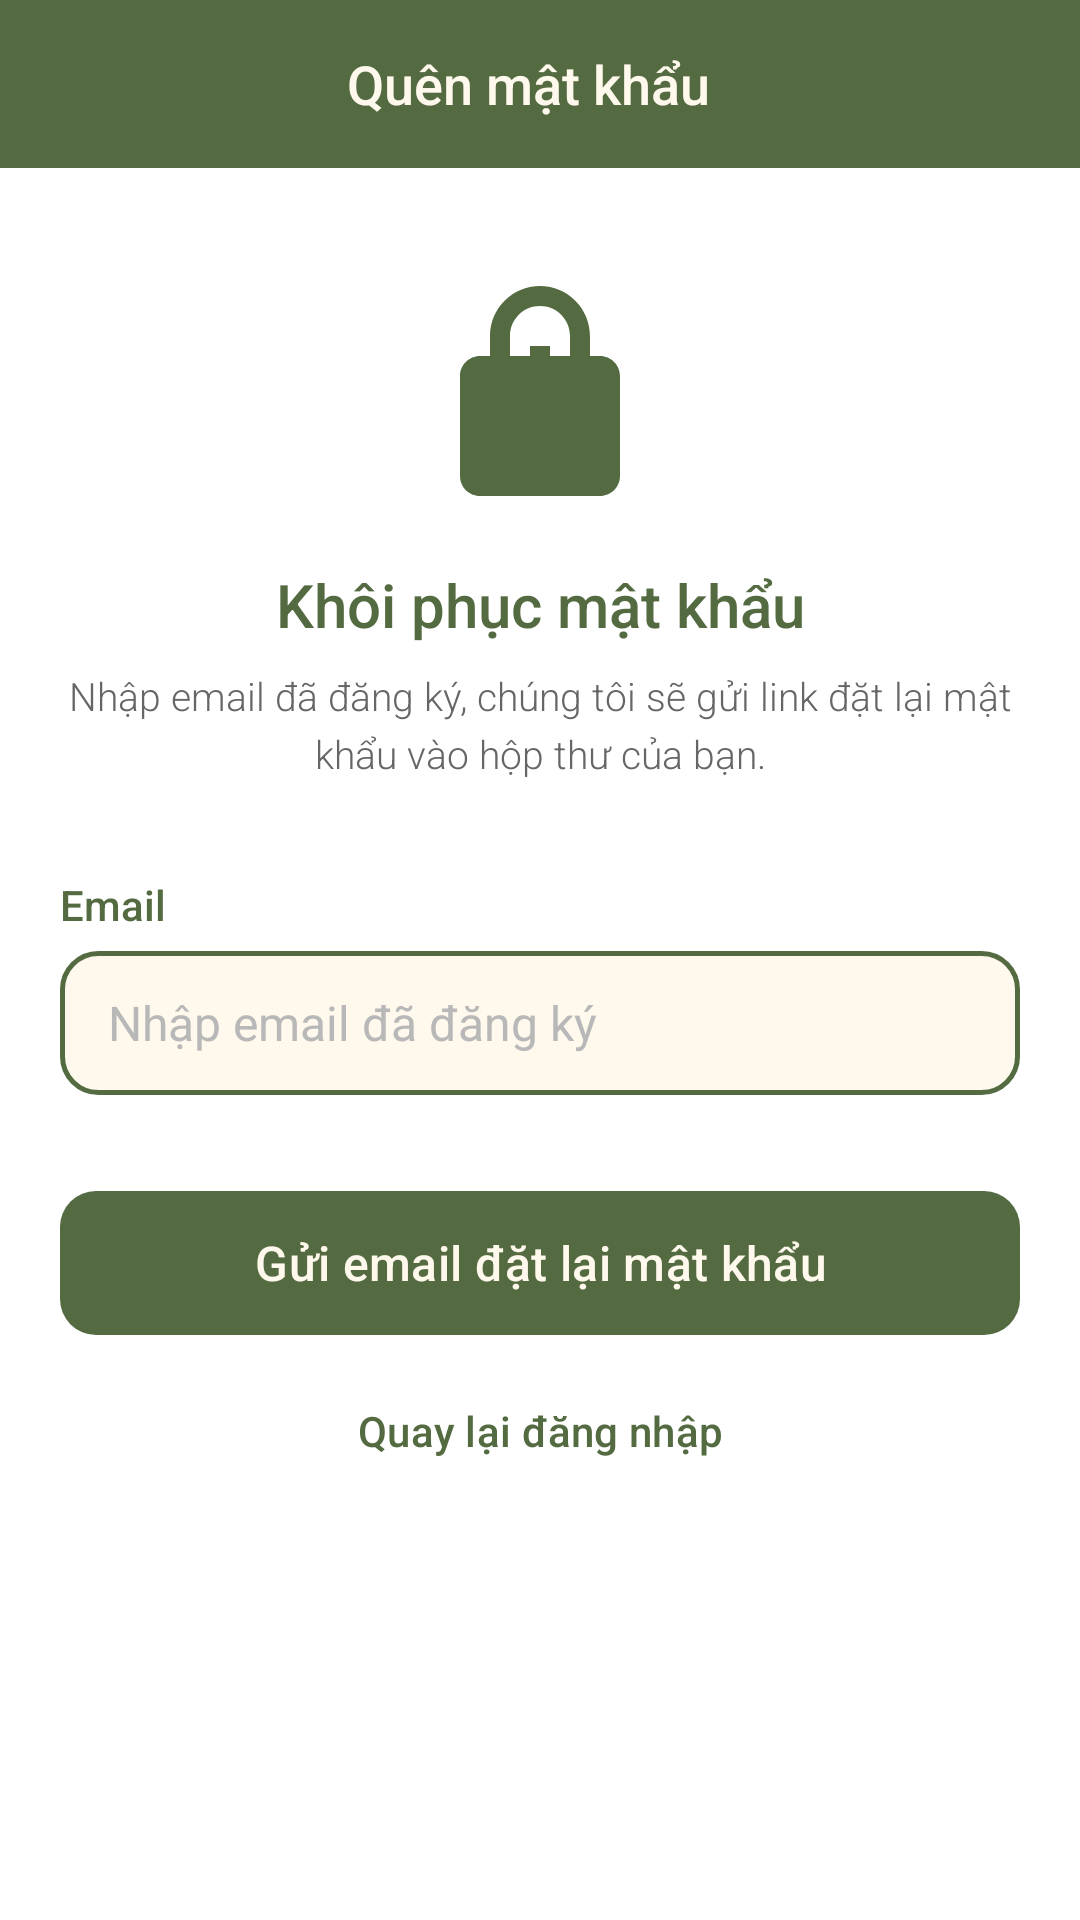

Named icons in this screenshot (1080 × 1920) and their bounding boxes, BBox(x1, y1, x2, y2):
forgot password: BBox(460, 286, 620, 496)
